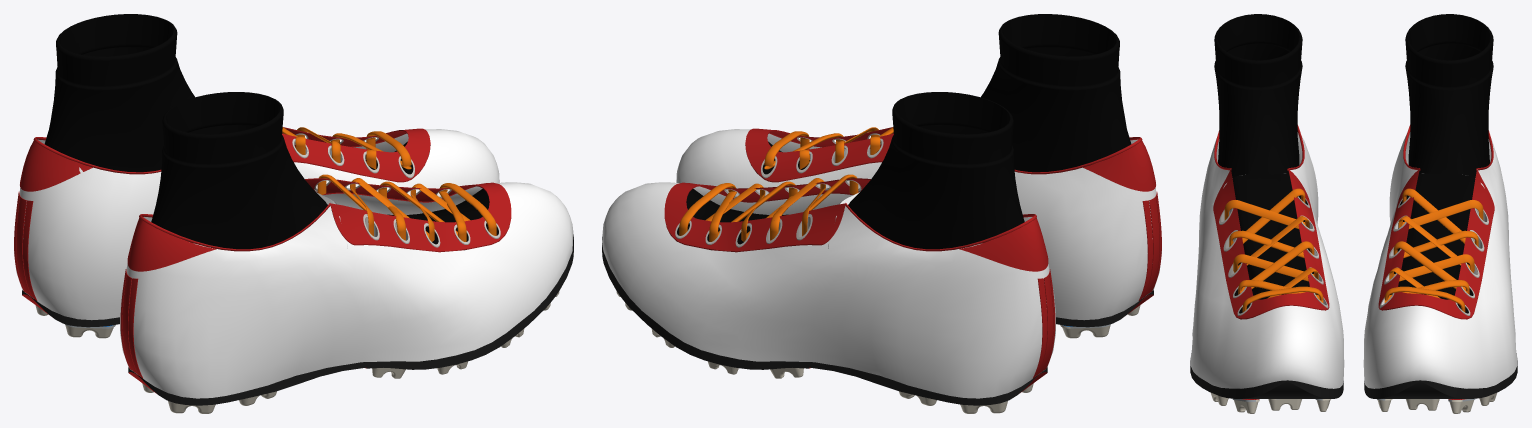
File: SNEAKER.FBX
3 views of the same model, side by side, from view 1: azimuth 30°, elevation 25°; view 2: azimuth 150°, elevation 25°; view 3: azimuth 270°, elevation 25° (orthographic). The views are drawn at different scales.
Visible parts, largest first — view 1: NONE (×20); view 2: NONE (×20); view 3: NONE (×18).
Boxes of the visible parts, box(x1,y1,x2,y2) form: NONE (×20): box(14, 14, 573, 405); NONE (×20): box(602, 14, 1161, 405); NONE (×18): box(1190, 14, 1517, 413).
Size of the model in its own units: 48.36 by 28.94 by 33.39.
